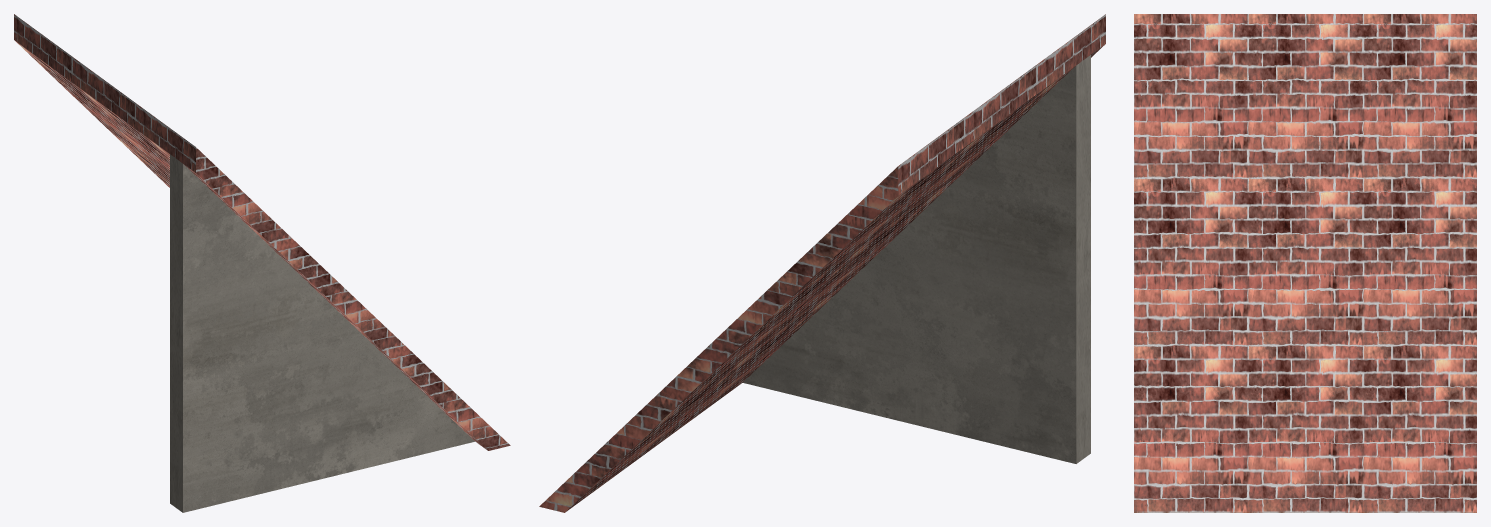
The model's file is Mod_roof_corner_right.fbx.
3 renders of one model, left to right at view 1: azimuth 30°, elevation 25°; view 2: azimuth 150°, elevation 25°; view 3: azimuth 270°, elevation 25°, orthographic. The views are drawn at different scales.
Visible parts, largest first — view 1: rmod_roof_corner_extended_edge; view 2: rmod_roof_corner_extended_edge; view 3: rmod_roof_corner_extended_edge.
Boxes of the visible parts, bbox=[...] form: rmod_roof_corner_extended_edge: bbox=[14, 14, 510, 512]; rmod_roof_corner_extended_edge: bbox=[539, 14, 1105, 512]; rmod_roof_corner_extended_edge: bbox=[1134, 14, 1476, 512].
Size of the model in its own units: 350 by 399 by 350.
